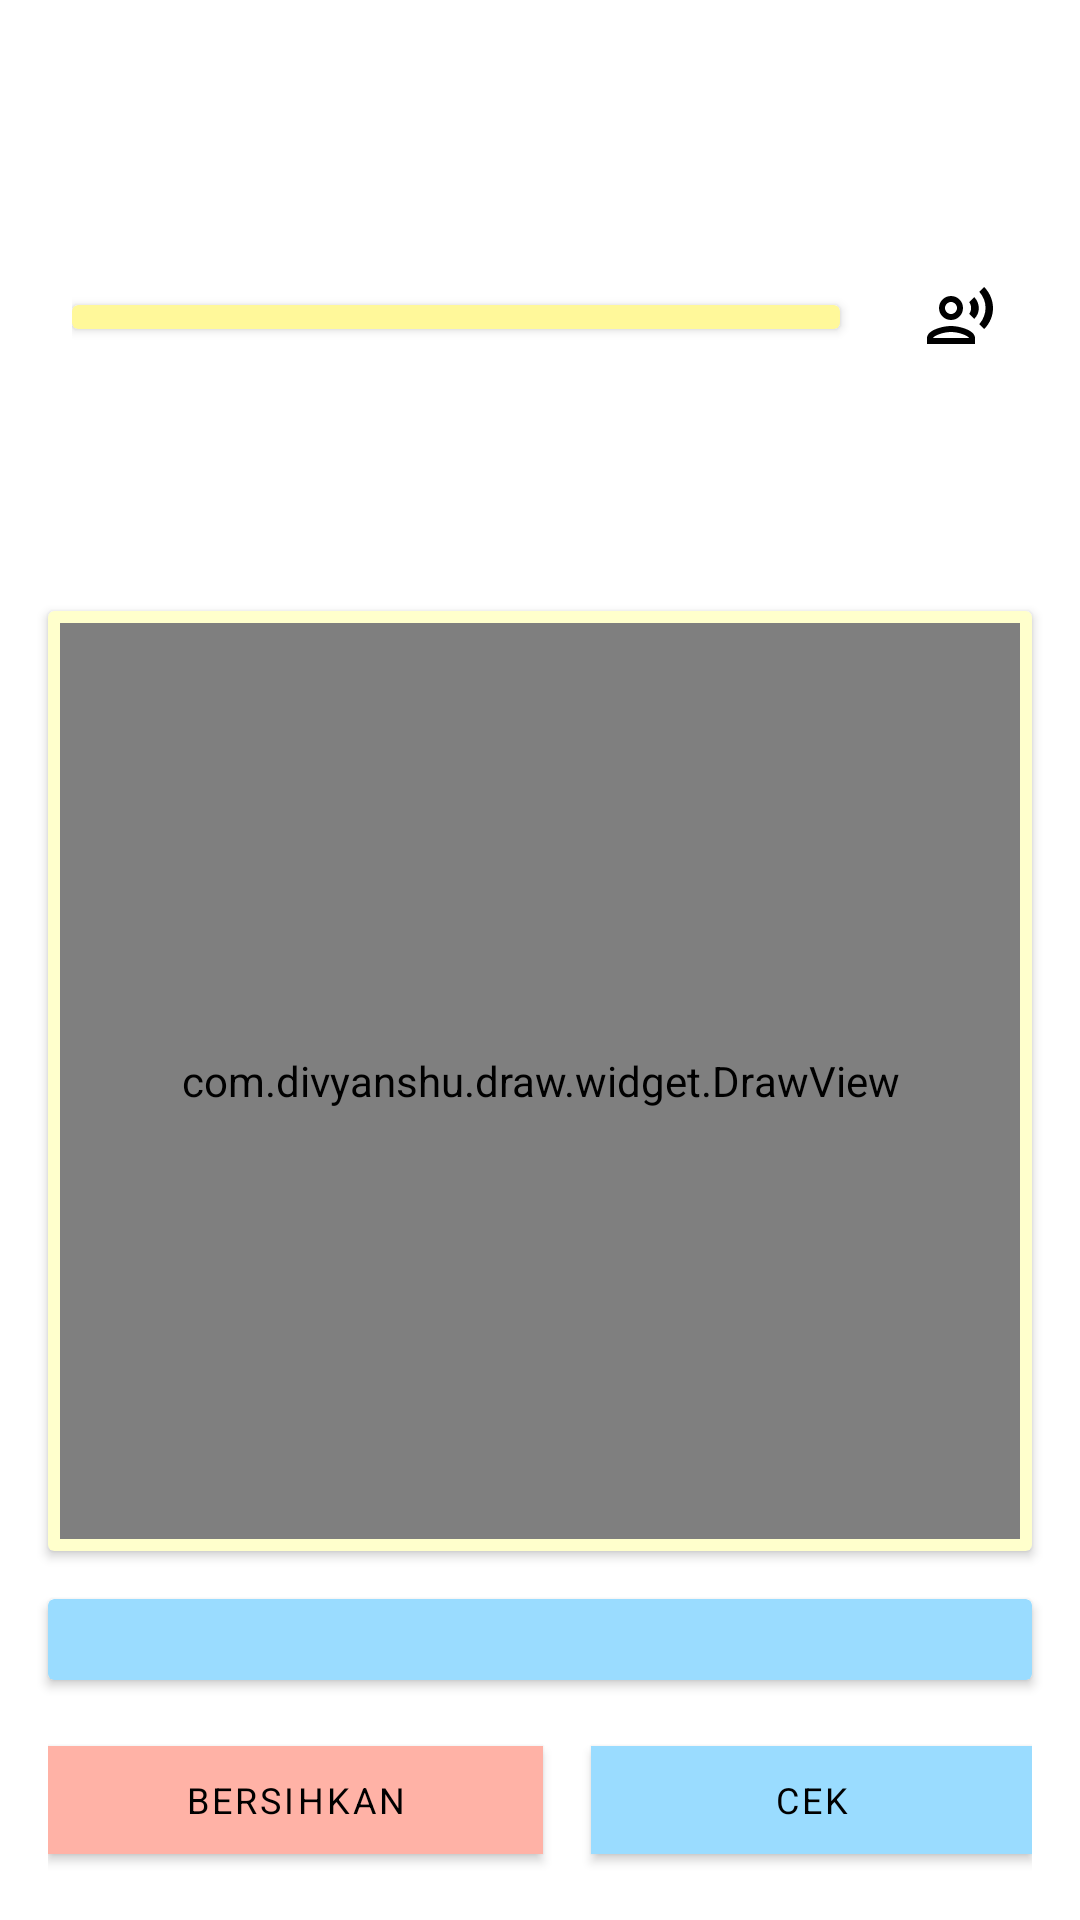

Named icons in this screenshot (1080px x 1920px) and their centers, [x,y]:
Speak Button: [960,315]
